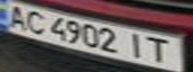0: (78, 21, 100, 50)
2: (96, 25, 121, 55)
4: (45, 15, 69, 42)
9: (63, 18, 84, 45)
A: (0, 2, 30, 29)
C: (21, 8, 51, 35)
I: (121, 29, 151, 61)
T: (142, 34, 181, 65)
